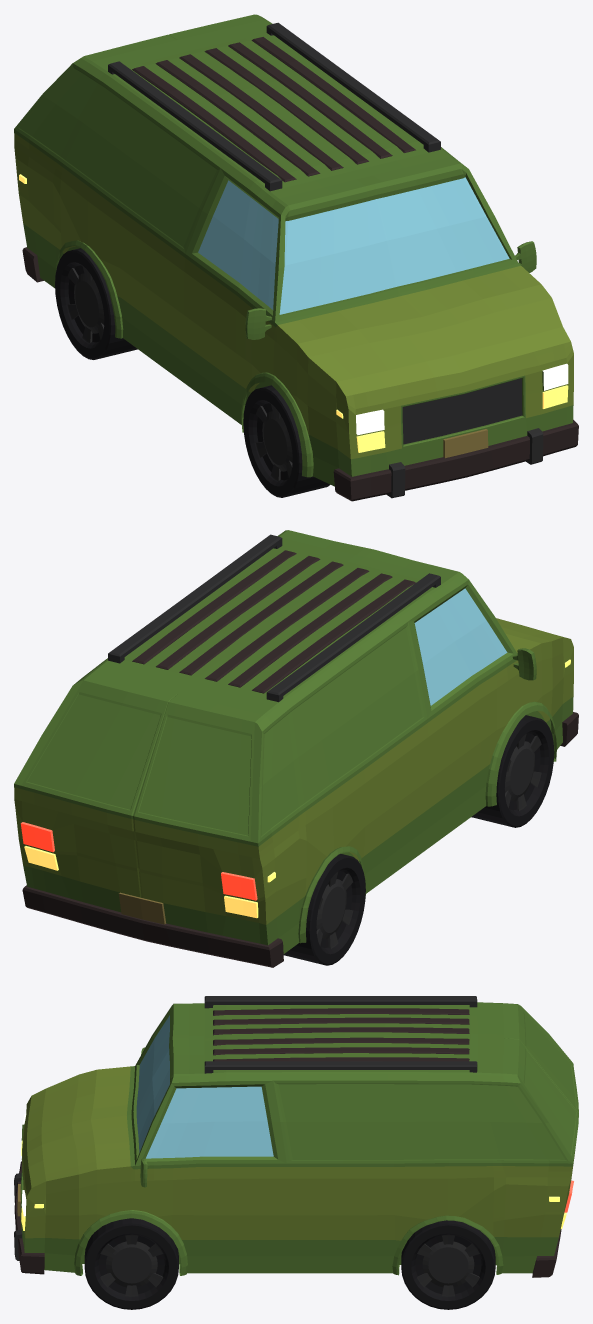
File: Van.fbx
3 renders of one model, top to bottom at view 1: azimuth 30°, elevation 25°; view 2: azimuth 150°, elevation 25°; view 3: azimuth 270°, elevation 25°, orthographic. The views are drawn at different scales.
Parts seen in each view (by area): view 1: Van, Van_Wheel1, Van_Wheel4; view 2: Van, Van_Wheel4, Van_Wheel1; view 3: Van, Van_Wheel2, Van_Wheel3.
Boxes of the visible parts, x1,y1,x2,y2 form: Van: (14, 14, 578, 501); Van_Wheel1: (243, 385, 329, 497); Van_Wheel4: (55, 248, 137, 359); Van: (14, 530, 578, 967); Van_Wheel4: (283, 853, 365, 965); Van_Wheel1: (471, 715, 554, 827); Van: (14, 996, 578, 1277); Van_Wheel2: (84, 1218, 178, 1309); Van_Wheel3: (401, 1220, 495, 1309).
Size of the model in its own units: 2.28 by 2.03 by 4.57.
